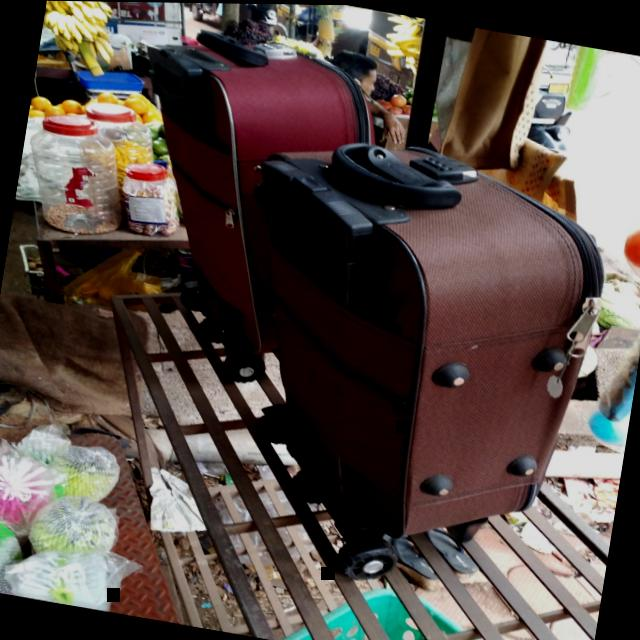luggage: (196, 104, 628, 569)
